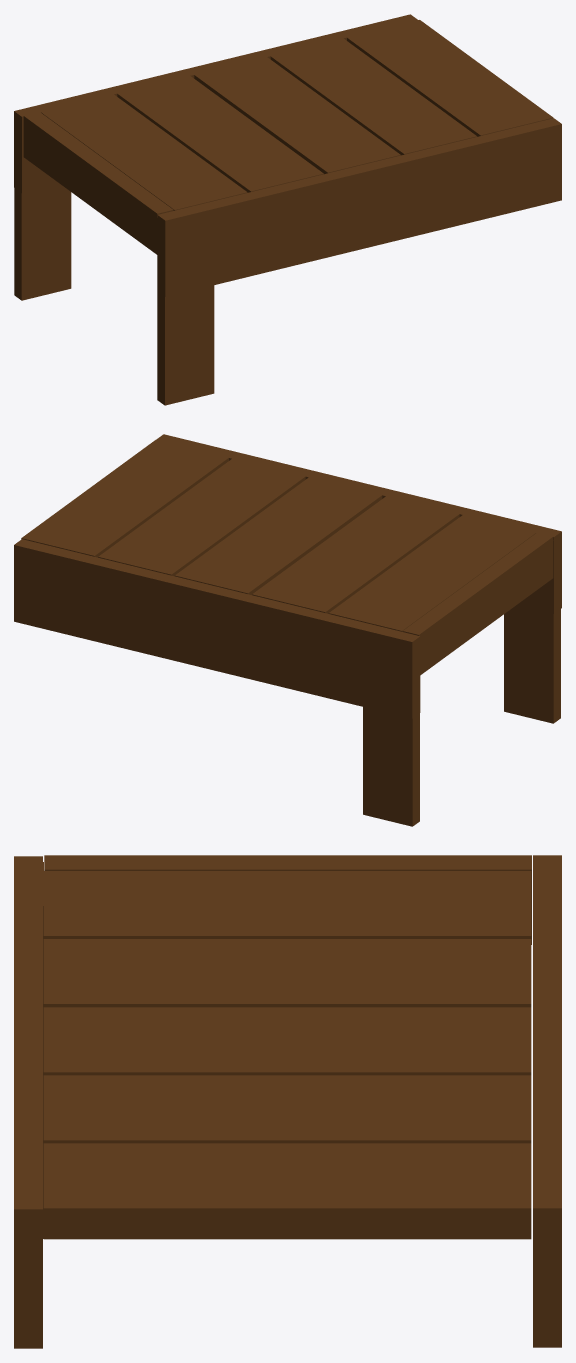
File: Dock.fbx
3 views of the same model, one above another, from view 1: azimuth 30°, elevation 25°; view 2: azimuth 150°, elevation 25°; view 3: azimuth 270°, elevation 25° (orthographic). The views are drawn at different scales.
Visible parts, largest first — view 1: Cube.006; view 2: Cube.006; view 3: Cube.006.
Boxes of the visible parts, bbox=[...] form: Cube.006: bbox=[14, 14, 561, 405]; Cube.006: bbox=[14, 434, 561, 826]; Cube.006: bbox=[14, 855, 561, 1348].
Bounding box in the file's own units: 7.9 × 3.54 × 5.17.
